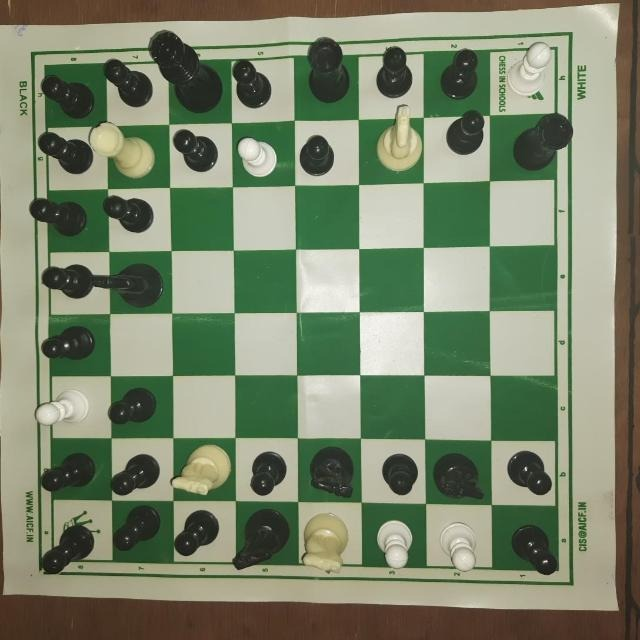black-knight: (93, 259, 165, 313), (230, 507, 287, 575), (309, 438, 363, 502), (431, 447, 489, 501)
black-pawn: (39, 514, 99, 575), (25, 191, 87, 241), (506, 522, 561, 578), (32, 319, 97, 366), (34, 127, 91, 179), (504, 444, 556, 501), (172, 503, 224, 560), (37, 446, 94, 497), (433, 43, 481, 103), (111, 502, 161, 557), (37, 255, 94, 302), (100, 190, 156, 237), (104, 451, 162, 496), (40, 71, 96, 117), (100, 58, 151, 108), (169, 125, 220, 175), (105, 381, 157, 429), (228, 57, 274, 111), (374, 42, 414, 102), (376, 446, 419, 500), (246, 447, 292, 497), (297, 128, 337, 181), (445, 108, 489, 155)
black-queen: (147, 26, 225, 112)
black-rook: (511, 110, 577, 171), (303, 34, 355, 104)
white-knight: (295, 506, 353, 578), (162, 441, 233, 499), (372, 105, 426, 177)
white-pawn: (500, 35, 558, 101), (433, 516, 482, 578), (30, 381, 91, 428), (372, 512, 416, 574), (233, 127, 278, 177)
white-rook: (88, 120, 159, 181)
